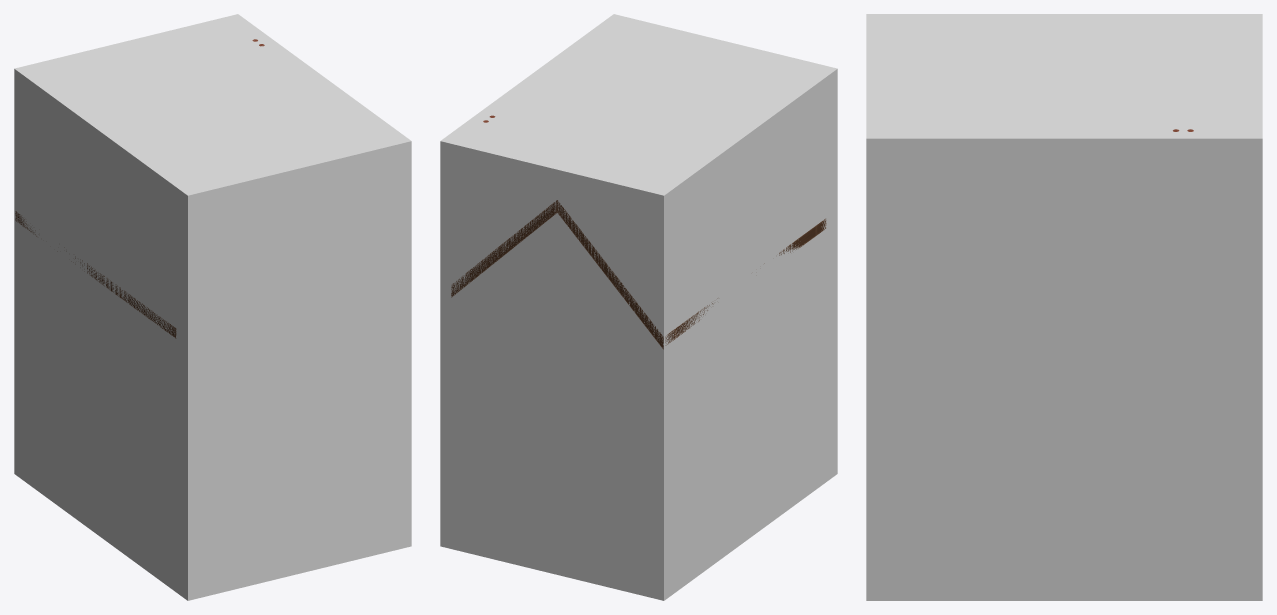
File: house_townhouse.glb
3 views of the same model, side by side, from view 1: azimuth 30°, elevation 25°; view 2: azimuth 150°, elevation 25°; view 3: azimuth 270°, elevation 25° (orthographic). The views are drawn at different scales.
Parts seen in each view (by area): view 1: COL_house_townhouse_static_00, house_townhouse_static; view 2: COL_house_townhouse_static_00, house_townhouse_static; view 3: COL_house_townhouse_static_00.
Boxes of the visible parts, bbox=[...] form: COL_house_townhouse_static_00: bbox=[14, 14, 411, 600]; house_townhouse_static: bbox=[15, 39, 264, 338]; COL_house_townhouse_static_00: bbox=[440, 14, 837, 600]; house_townhouse_static: bbox=[451, 115, 826, 349]; COL_house_townhouse_static_00: bbox=[866, 14, 1262, 600].
Size of the model in its own units: 5.51 by 9.52 by 7.4.
Materials: 7 (7 with a texture image).
